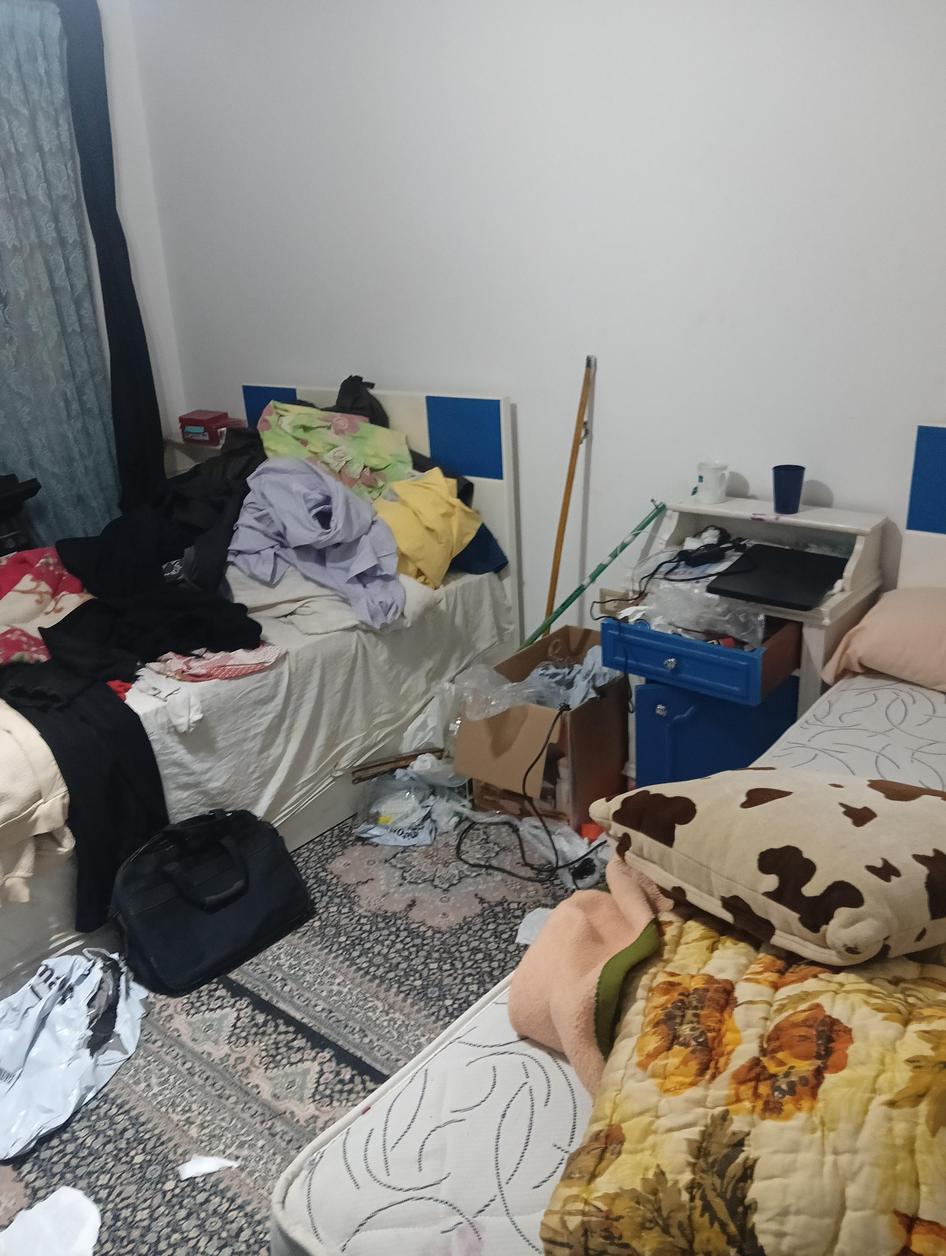cup: (772, 465, 805, 514), (696, 462, 727, 504)
